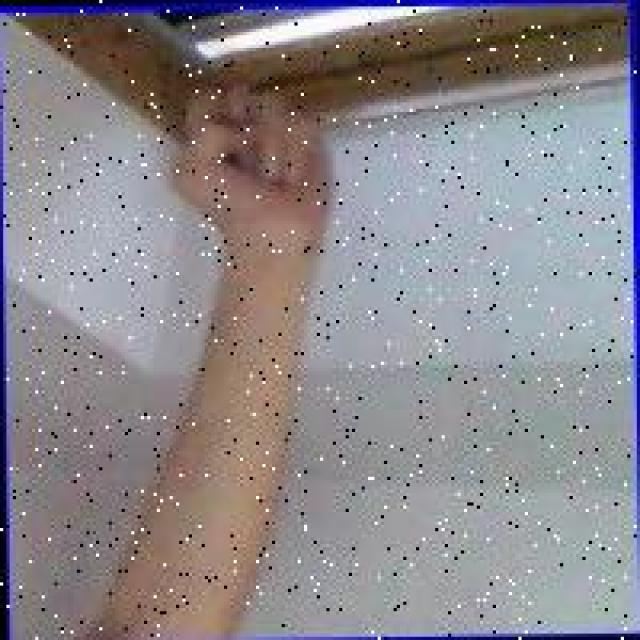S: (165, 74, 341, 252)
